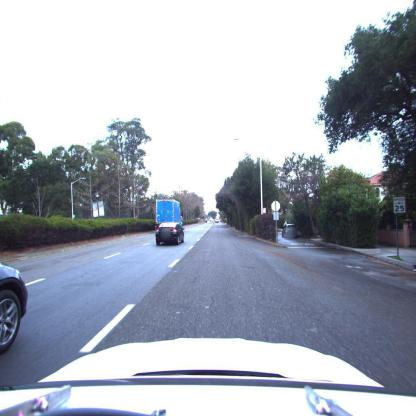car: (0, 252, 42, 366), (156, 223, 185, 247)
sign: (393, 198, 407, 216)
stop sign: (271, 200, 280, 212)
truck: (155, 201, 185, 245)
